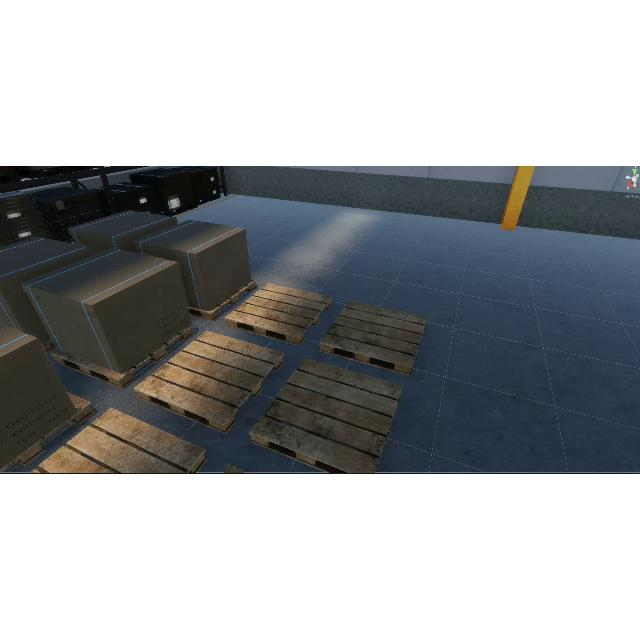wooden_pallet: (133, 331, 285, 435), (50, 324, 195, 391), (225, 282, 333, 346), (188, 278, 257, 321)
